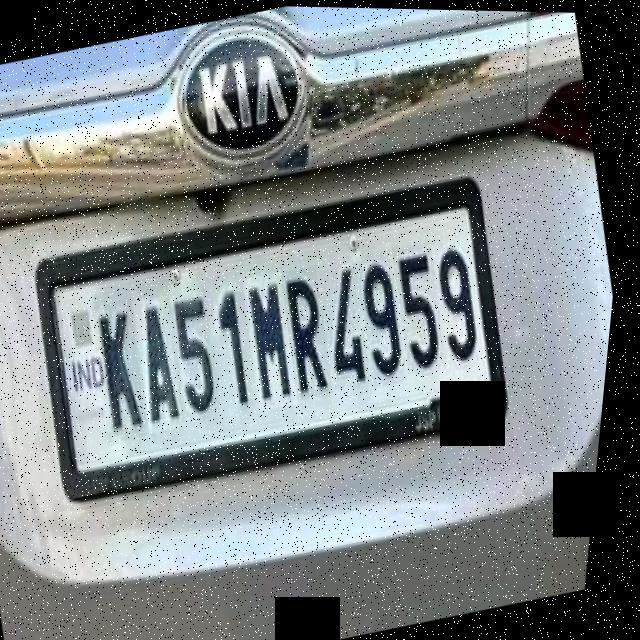1: (204, 279, 275, 410)
4: (315, 261, 387, 388)
5: (387, 238, 464, 372), (164, 281, 238, 417)
9: (351, 247, 425, 386), (427, 233, 501, 370)
A: (128, 294, 201, 433)
K: (87, 297, 167, 442)
M: (237, 269, 316, 410)
R: (274, 262, 351, 399)
